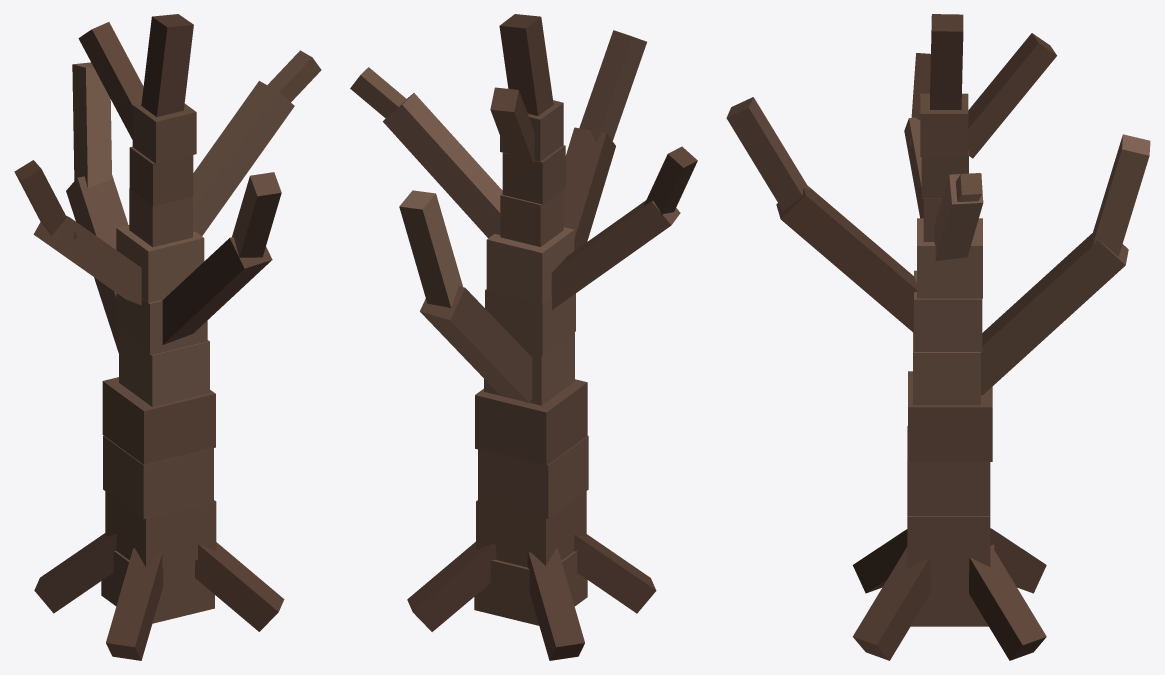
Rendered from tree_dead.glb.
3 renders of one model, left to right at view 1: azimuth 30°, elevation 25°; view 2: azimuth 150°, elevation 25°; view 3: azimuth 270°, elevation 25°, orthographic. The views are drawn at different scales.
Parts seen in each view (by area): view 1: tree_dead; view 2: tree_dead; view 3: tree_dead.
Part boxes in pixels (<box>): tree_dead: <box>14,14,321,660</box>; tree_dead: <box>350,14,697,660</box>; tree_dead: <box>726,14,1150,660</box>.
Bounding box in the file's own units: 3.58 × 6.37 × 4.02.
